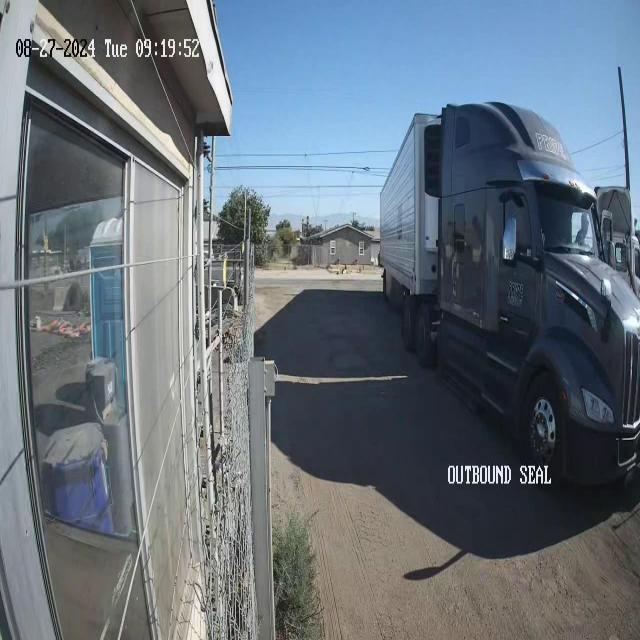TRUCK_IN: (378, 98, 640, 490)
